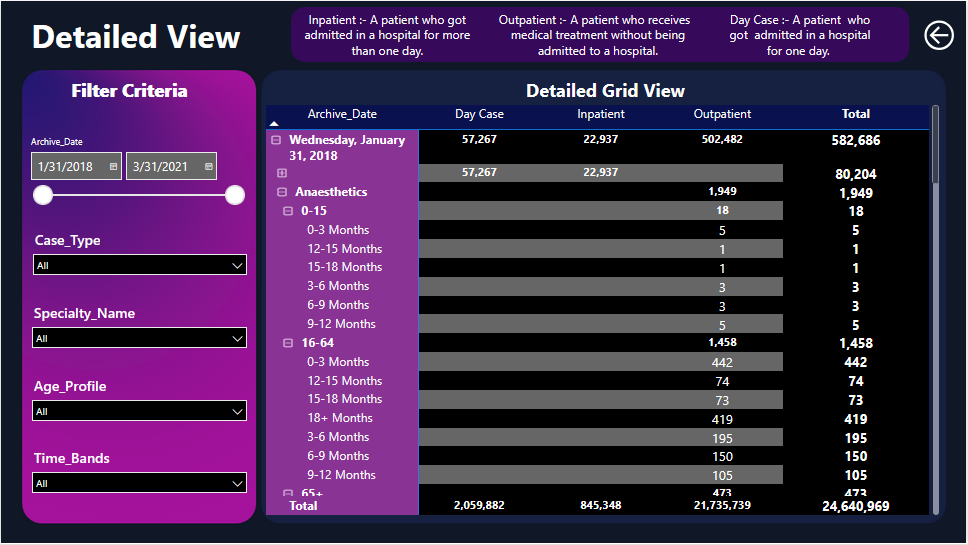

What the dashboard file says about the page in this screenshot:
{"tool":"powerbi","page":{"name":"Detailed  View","canvas":[1280,720],"ordinal":2},"visuals":[{"type":"shape","box":[384,8.3,820.3,72.9],"z":0},{"type":"textbox","box":[20.6,12.4,315.2,84],"z":1000},{"type":"slicer","fields":{"Values":["All_Data.Archive_Date"]},"box":[26.2,172,304.2,108.7],"z":2000},{"type":"pivotTable","fields":{"Values":["Sum(All_Data.Total)"],"Columns":["All_Data.Case_Type"],"Rows":["All_Data.Archive_Date","All_Data.Speciality_Name","All_Data.Age_Profile","All_Data.Time_Bands"]},"box":[346.1,132.5,903.2,554.4],"z":3000},{"type":"slicer","fields":{"Values":["All_Data.Case_Type"]},"box":[31.4,298.6,304.3,97.1],"z":4000},{"type":"slicer","fields":{"Values":["All_Data.Specialty_Name"]},"box":[30,395.7,305.7,95.7],"z":5000},{"type":"slicer","fields":{"Values":["All_Data.Age_Profile"]},"box":[30,491.4,305.7,95.7],"z":6000},{"type":"slicer","fields":{"Values":["All_Data.Time_Bands"]},"box":[30,587.1,305.7,98.6],"z":7000},{"type":"actionButton","box":[1218.1,19.3,60.6,50.9],"z":8000},{"type":"textbox","box":[660.6,96.3,282.2,48.2],"z":9000},{"type":"textbox","box":[74.3,96.3,191.3,48.2],"z":10000},{"type":"textbox","box":[396.4,8.3,231.2,72.9],"z":11000},{"type":"textbox","box":[649.6,8.3,283.5,72.9],"z":12000},{"type":"textbox","box":[953.8,8.3,212,77.1],"z":13000}]}

Visuals, with their boxes in screenshot pixels (x1, y1, x2, y2), scaled from the page's 1280x720 canvas onto the 968x545 screenshot:
shape: {"left": 290, "top": 6, "right": 911, "bottom": 61}
textbox: {"left": 16, "top": 9, "right": 254, "bottom": 73}
slicer - All_Data.Archive_Date: {"left": 20, "top": 130, "right": 250, "bottom": 212}
pivotTable - Sum(All_Data.Total) x All_Data.Case_Type: {"left": 262, "top": 100, "right": 945, "bottom": 520}
slicer - All_Data.Case_Type: {"left": 24, "top": 226, "right": 254, "bottom": 300}
slicer - All_Data.Specialty_Name: {"left": 23, "top": 300, "right": 254, "bottom": 372}
slicer - All_Data.Age_Profile: {"left": 23, "top": 372, "right": 254, "bottom": 444}
slicer - All_Data.Time_Bands: {"left": 23, "top": 444, "right": 254, "bottom": 519}
actionButton: {"left": 921, "top": 15, "right": 967, "bottom": 53}
textbox: {"left": 500, "top": 73, "right": 713, "bottom": 109}
textbox: {"left": 56, "top": 73, "right": 201, "bottom": 109}
textbox: {"left": 300, "top": 6, "right": 475, "bottom": 61}
textbox: {"left": 491, "top": 6, "right": 706, "bottom": 61}
textbox: {"left": 721, "top": 6, "right": 882, "bottom": 65}
